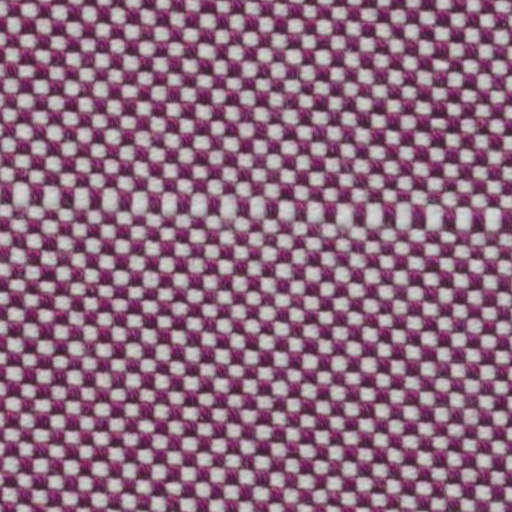TuoSha: (12, 146, 505, 250)
